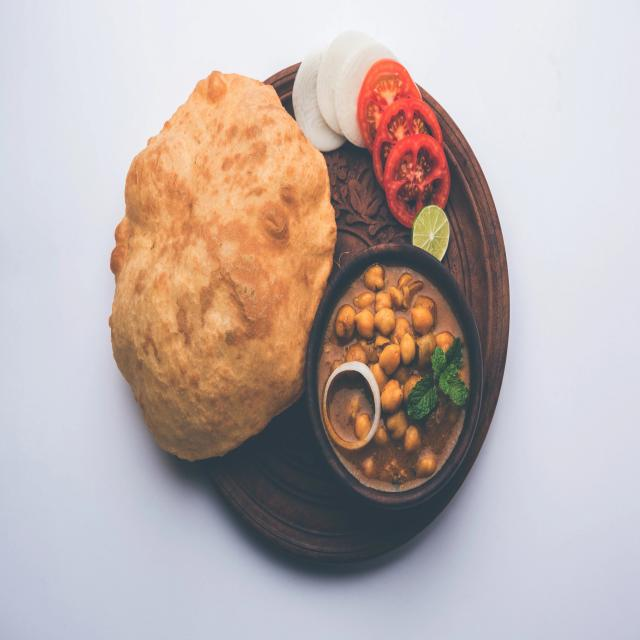Bhatura: (110, 68, 336, 462)
Chole: (326, 253, 470, 482)
